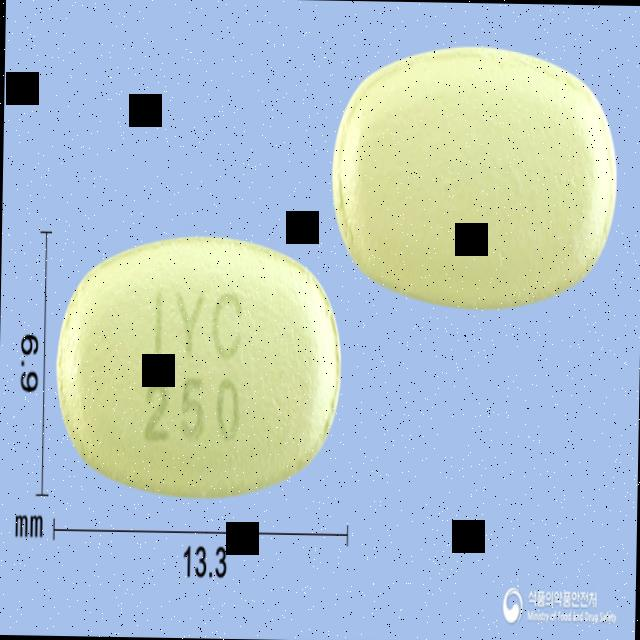Clafacin: (50, 225, 347, 508)
